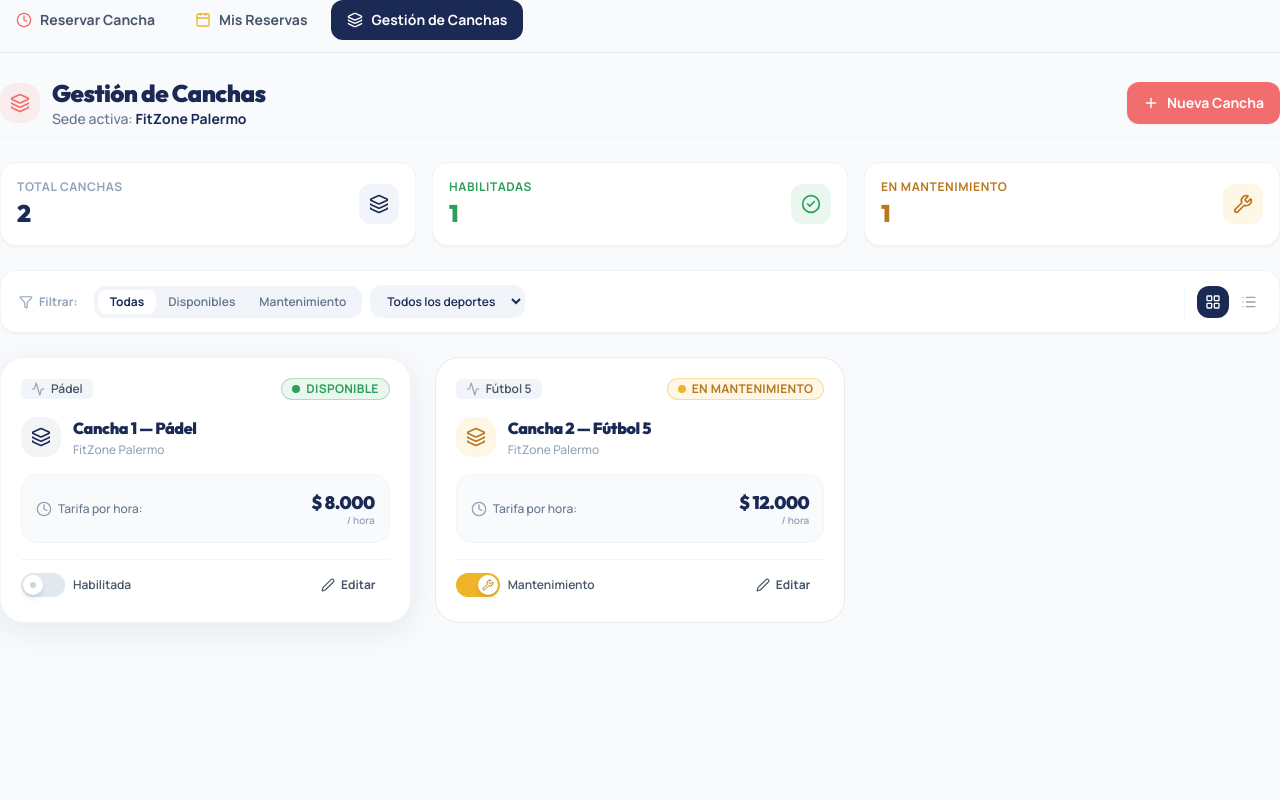
Test: CanchasPage (Integración) › permite abrir el modal, crear una nueva cancha y verla en la lista
Expected: the heading "Cancha 1 — Pádel" is shown, [73,418,196,438]
# Clic en Nueva Cancha
Click the button "Nueva Cancha" at (1203, 103), box [1127,82,1279,124]
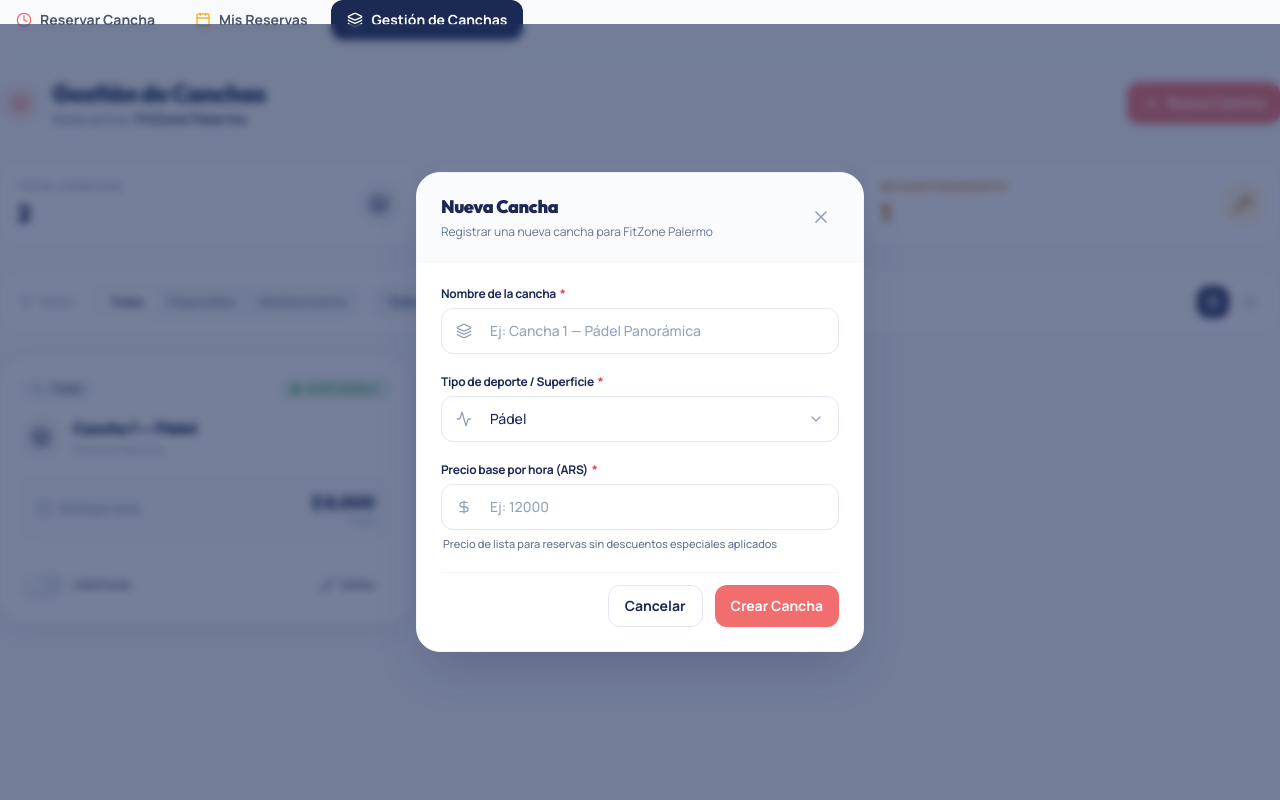
Now the dialog is shown
Now the text "Registrar una nueva cancha para FitZone Palermo" is shown, box [441,223,713,241]
# Completar formulario
Type "Cancha 3 — Tenis" into the field labelled "Nombre de la cancha*" at (657, 331), box [476,309,838,353]
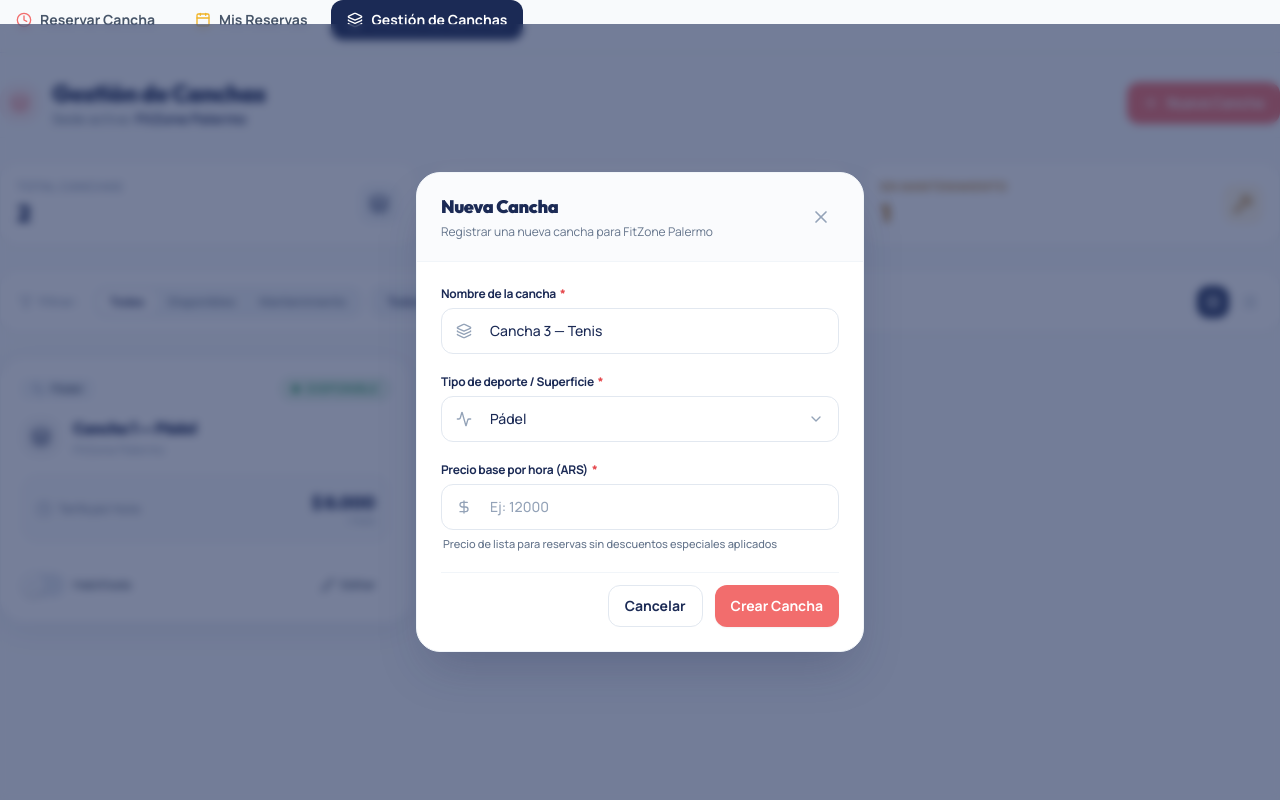
Select "Tenis" in the dropdown labelled "Tipo de deporte / Superficie*" at (657, 419), box [476,397,838,441]
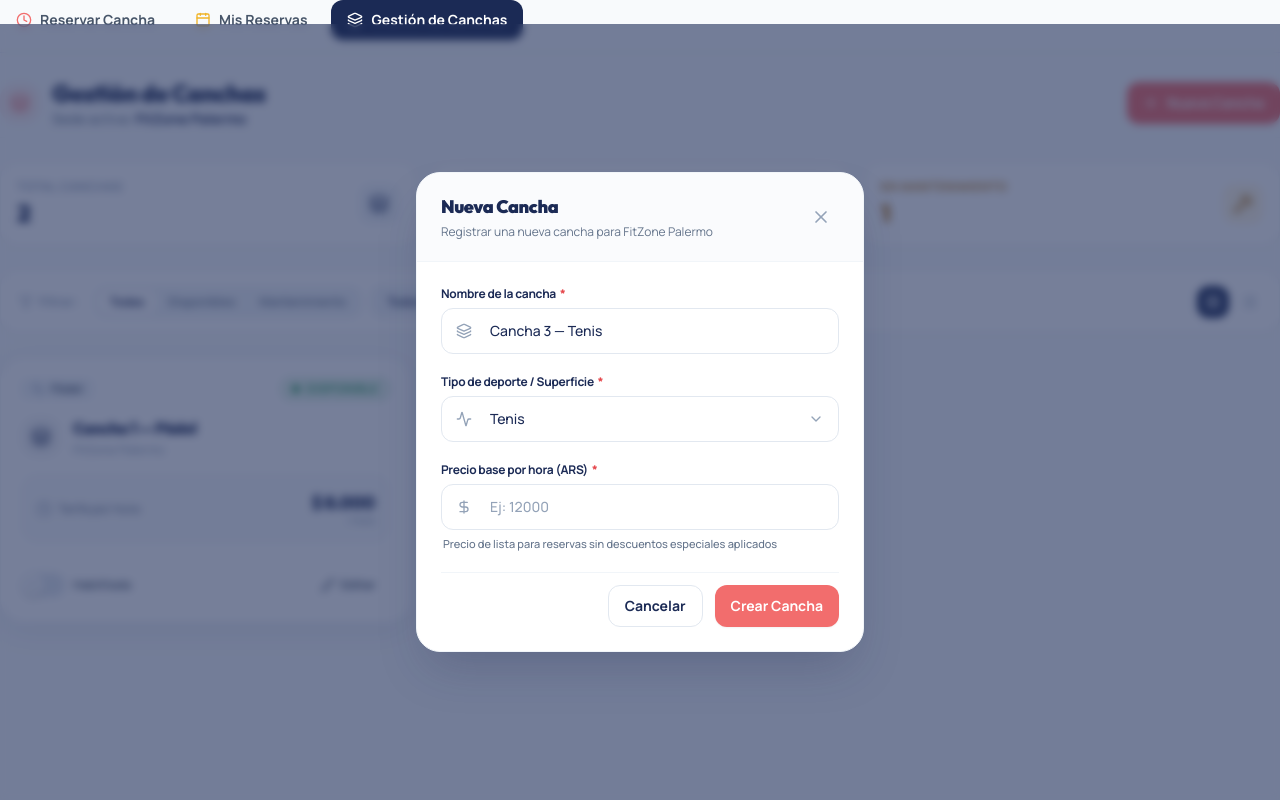
Type "15000" into the number field labelled "Precio base por hora (ARS)*" at (657, 507), box [476,485,838,529]
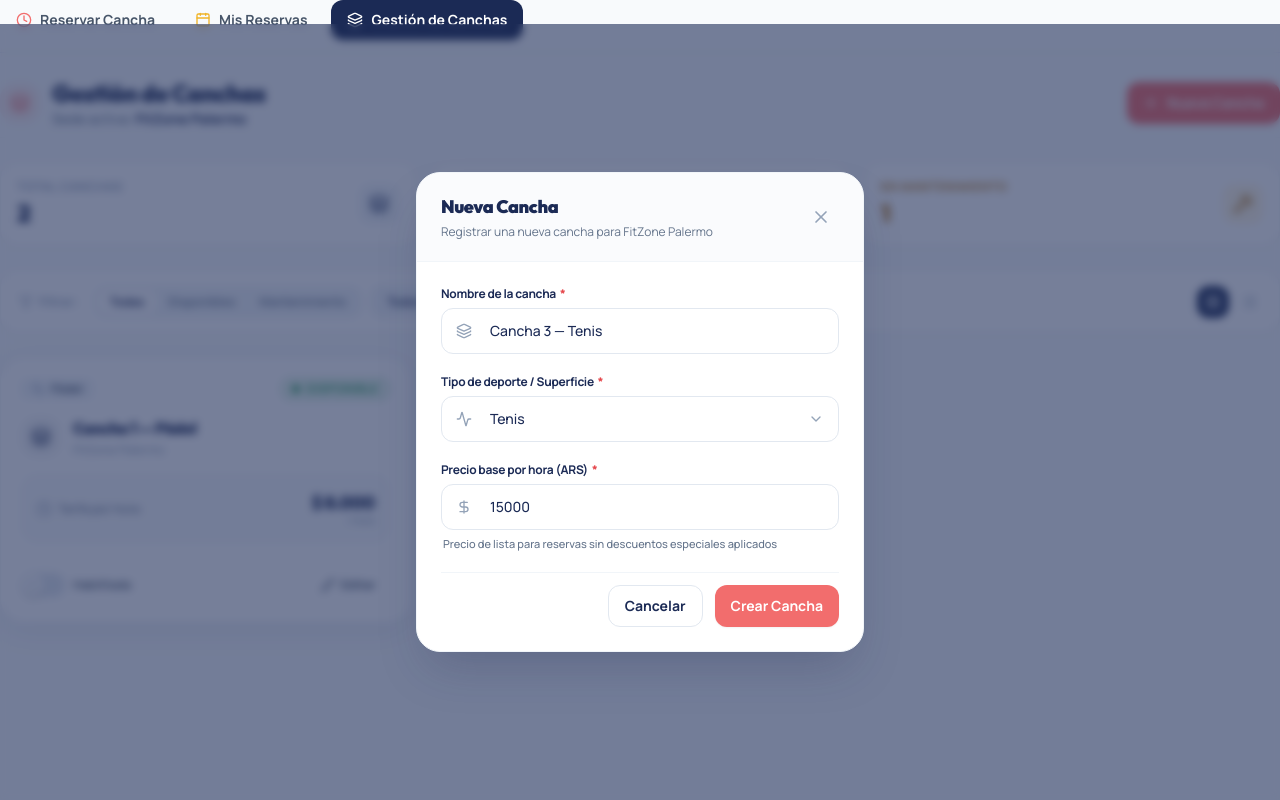
Click the button "Crear Cancha" at (777, 606), box [714,585,839,627]
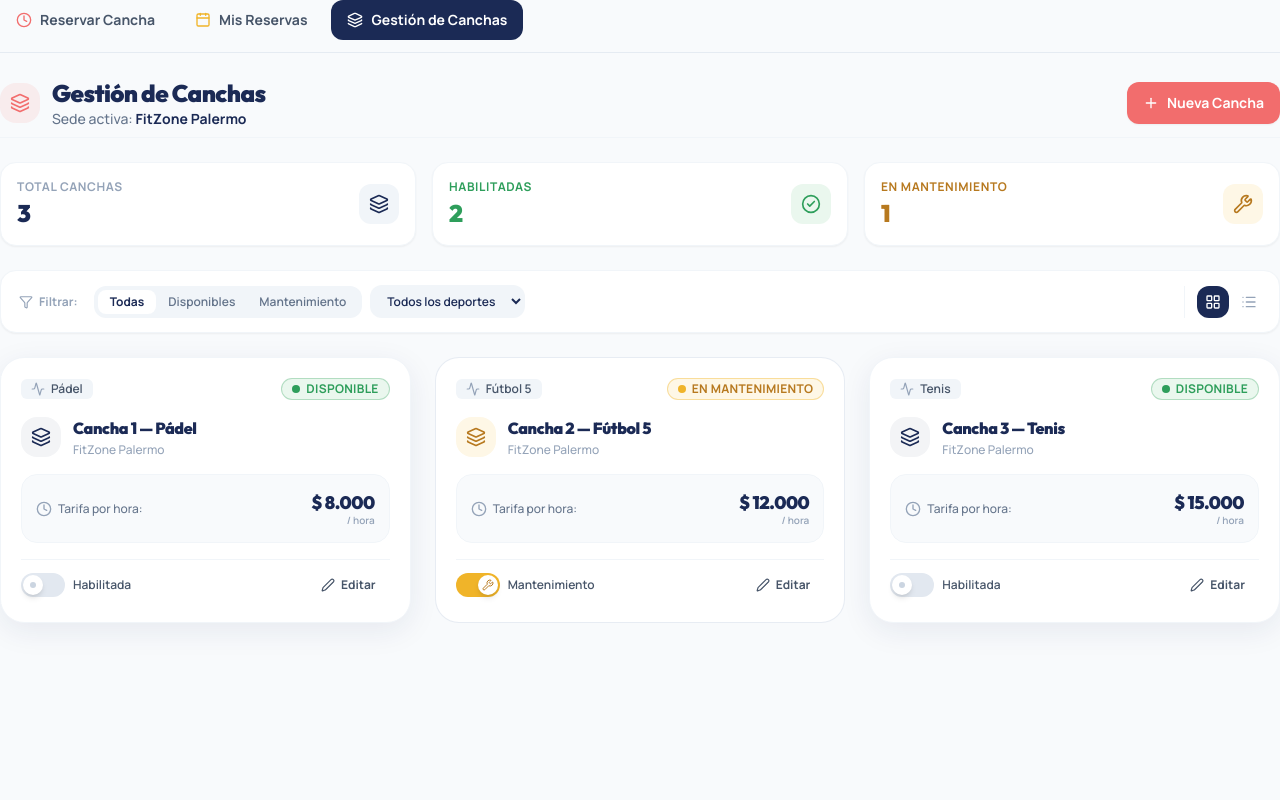
Now the dialog is gone
Now the heading "Cancha 3 — Tenis" is shown, box [942,418,1065,438]
